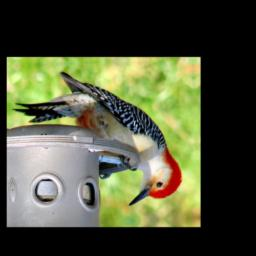Woodpecker: (11, 65, 183, 212)
